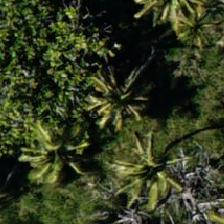Kelapa_Sawit: (73, 58, 163, 148), (88, 135, 179, 223)
